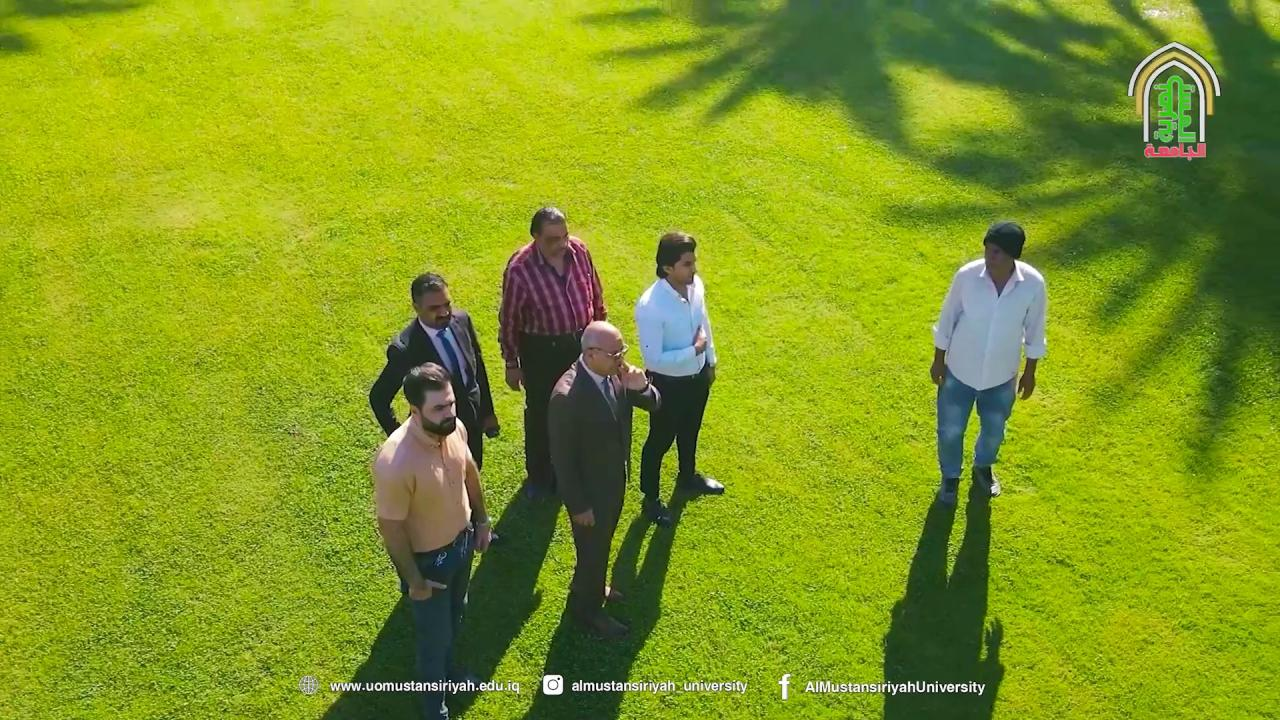person: (369, 361, 492, 719), (546, 320, 662, 640), (929, 221, 1048, 504), (497, 205, 607, 501), (634, 231, 725, 528), (367, 272, 500, 473)
